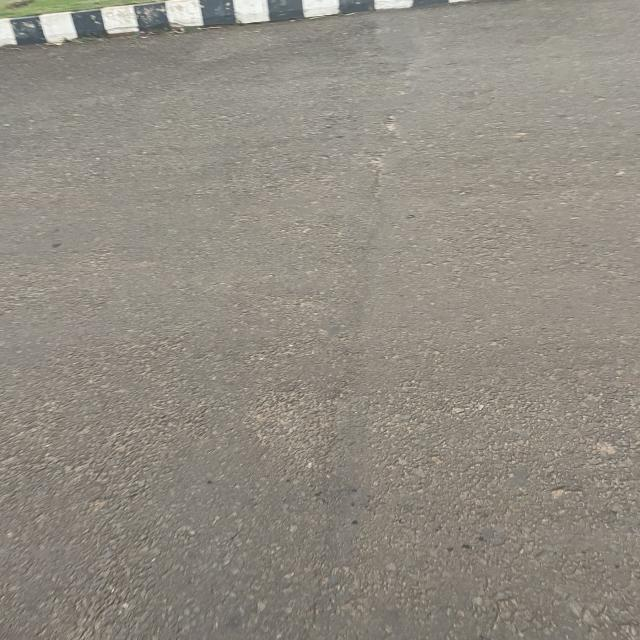D01: (269, 97, 413, 640)
